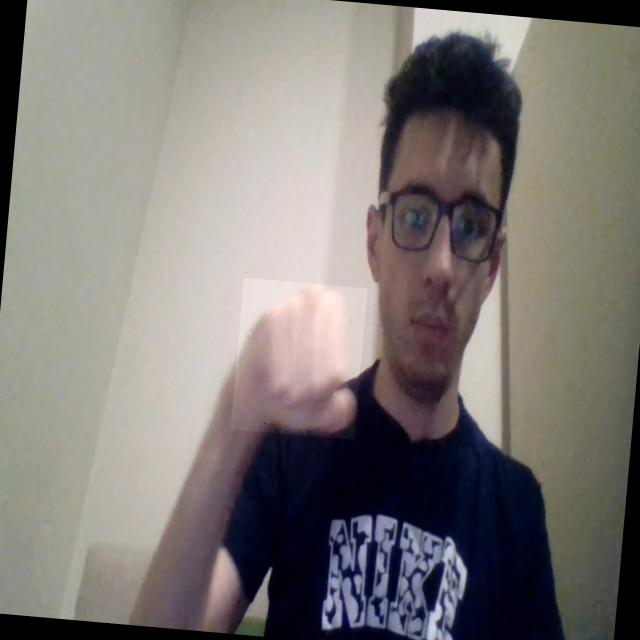yes: (230, 278, 367, 440)
